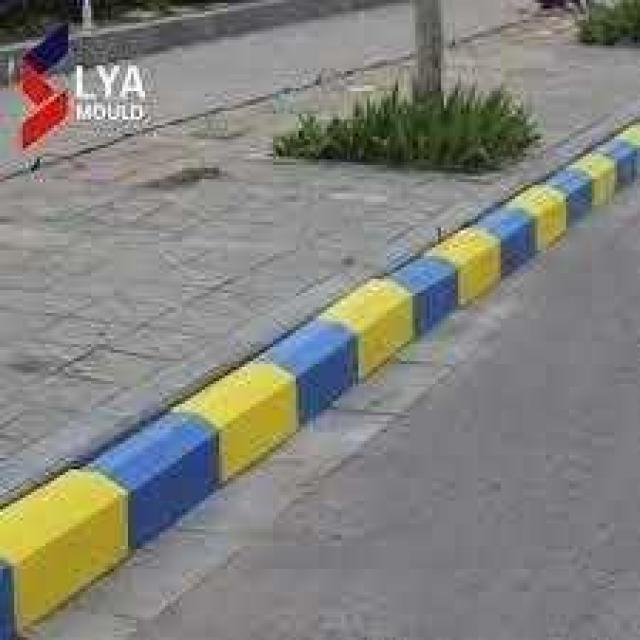curb: (92, 280, 415, 549), (429, 125, 640, 318), (1, 471, 129, 629), (393, 259, 459, 335)
